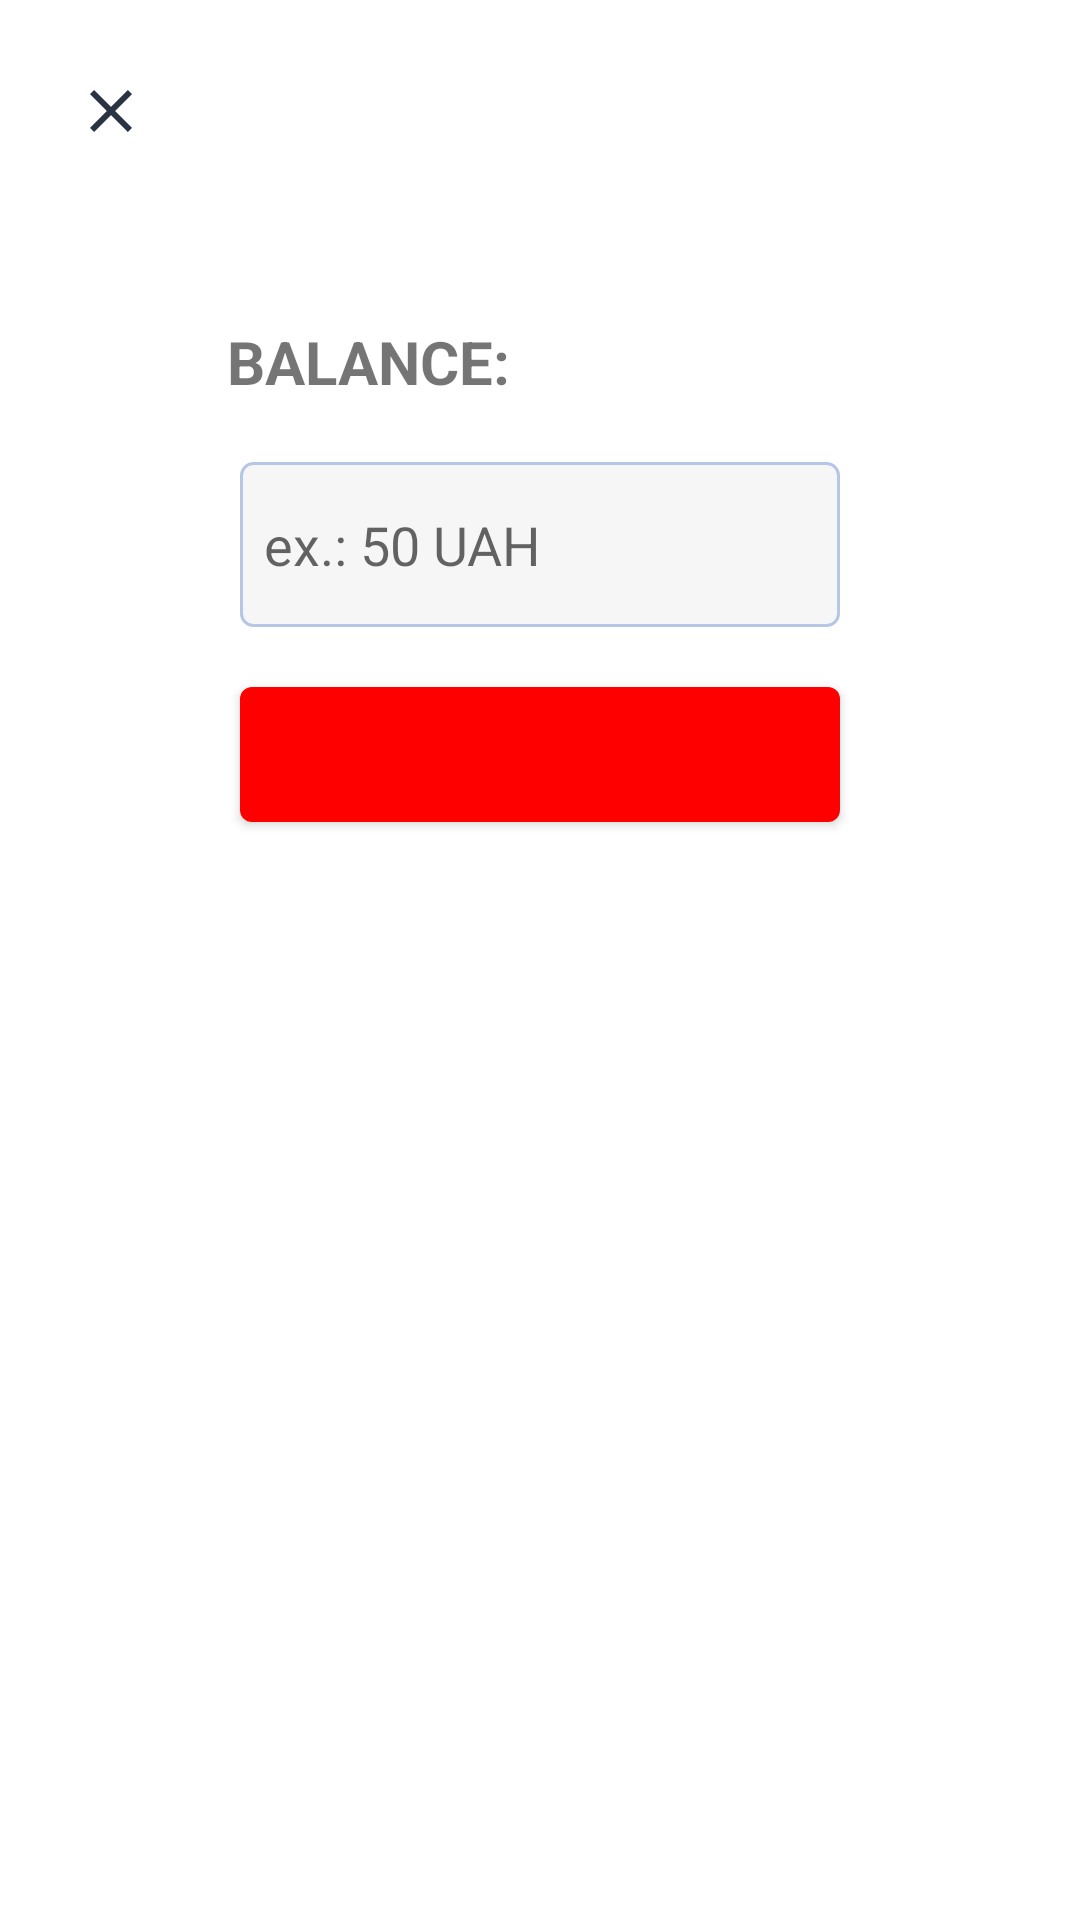

Icon bounding boxes for this 1080 x 1920 phone screenshot, format (x1, y1, x2, y2):
close: (90, 90, 132, 132)
